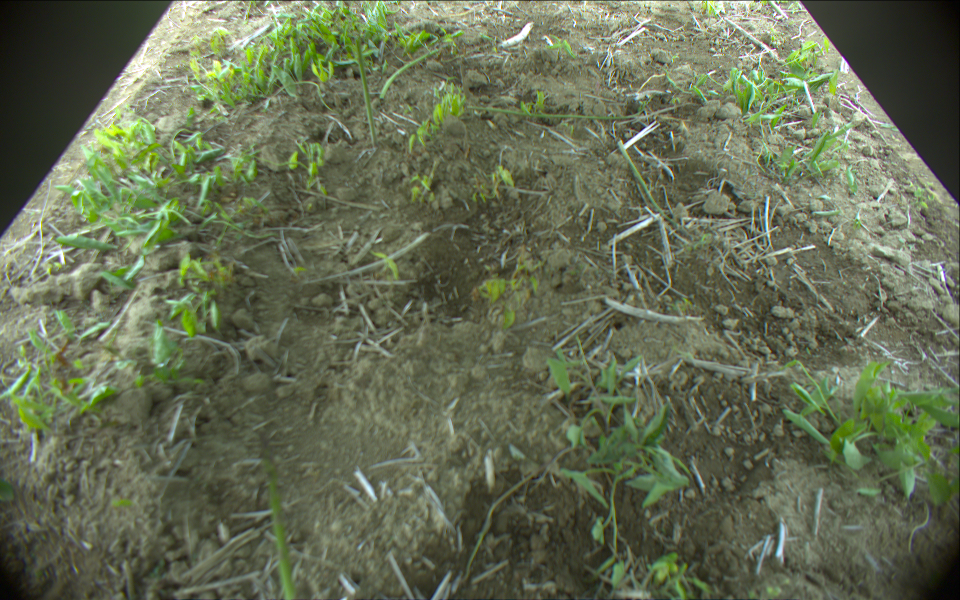aspa: (258, 433, 298, 600), (617, 139, 685, 227), (379, 45, 443, 98), (465, 105, 658, 121), (354, 27, 379, 147)
